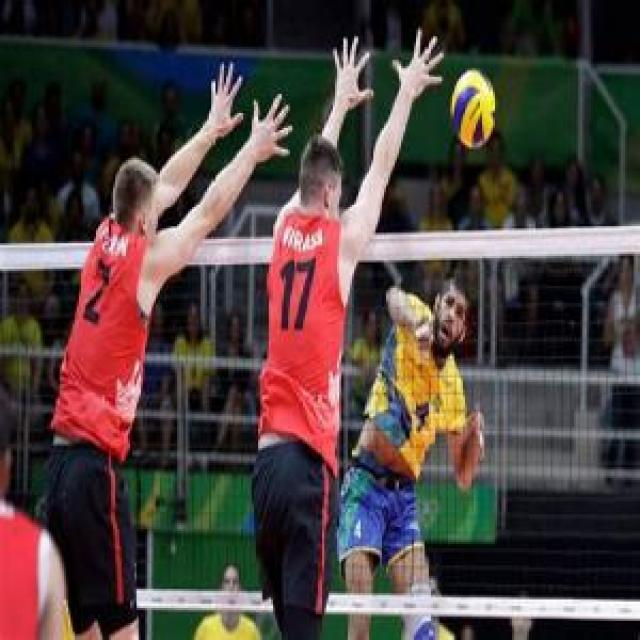volleyball: (451, 70, 496, 148)
